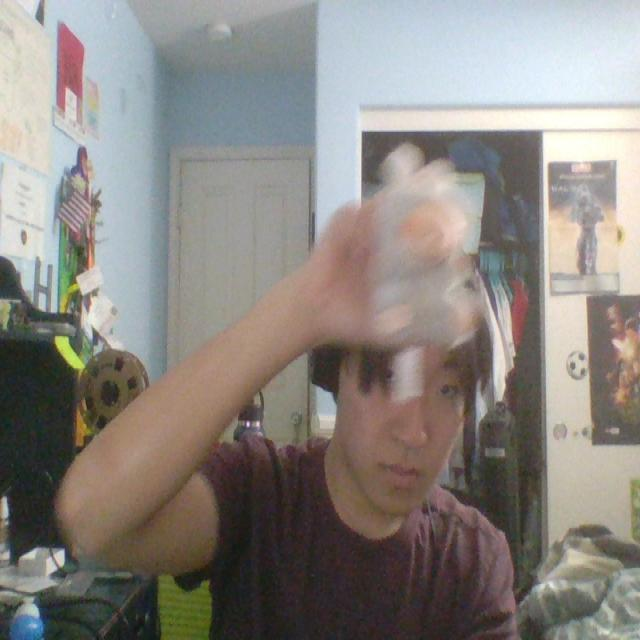labubu: (369, 145, 481, 348)
